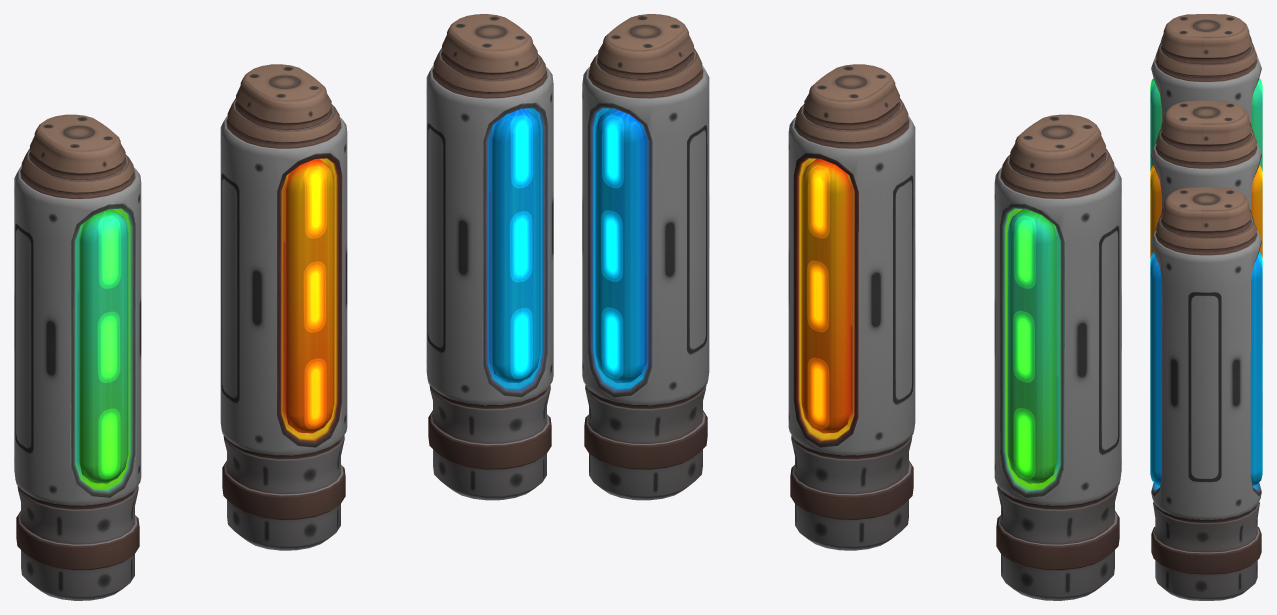
Rendered from cylinder_sci_fi.glb.
3 renders of one model, left to right at view 1: azimuth 30°, elevation 25°; view 2: azimuth 150°, elevation 25°; view 3: azimuth 270°, elevation 25°, orthographic. The views are drawn at different scales.
Parts seen in each view (by area): view 1: Cylinder_Sci_Fi_1_3, Cylinder_Sci_Fi_1_1, Cylinder_Sci_Fi_1_2; view 2: Cylinder_Sci_Fi_1_3, Cylinder_Sci_Fi_1_1, Cylinder_Sci_Fi_1_2; view 3: Cylinder_Sci_Fi_1_2, Cylinder_Sci_Fi_1_1, Cylinder_Sci_Fi_1_3.
Boxes of the visible parts, left/top/right/bottom form: Cylinder_Sci_Fi_1_3: left=14, top=114, right=141, bottom=600; Cylinder_Sci_Fi_1_1: left=220, top=64, right=347, bottom=550; Cylinder_Sci_Fi_1_2: left=426, top=14, right=553, bottom=500; Cylinder_Sci_Fi_1_3: left=994, top=114, right=1121, bottom=600; Cylinder_Sci_Fi_1_1: left=788, top=64, right=915, bottom=550; Cylinder_Sci_Fi_1_2: left=582, top=14, right=709, bottom=500; Cylinder_Sci_Fi_1_2: left=1150, top=187, right=1262, bottom=600; Cylinder_Sci_Fi_1_1: left=1150, top=100, right=1262, bottom=258; Cylinder_Sci_Fi_1_3: left=1150, top=14, right=1262, bottom=171.
Size of the model in its own units: 1.26 by 1.04 by 0.2743.
Materials: 3 (3 with a texture image).
